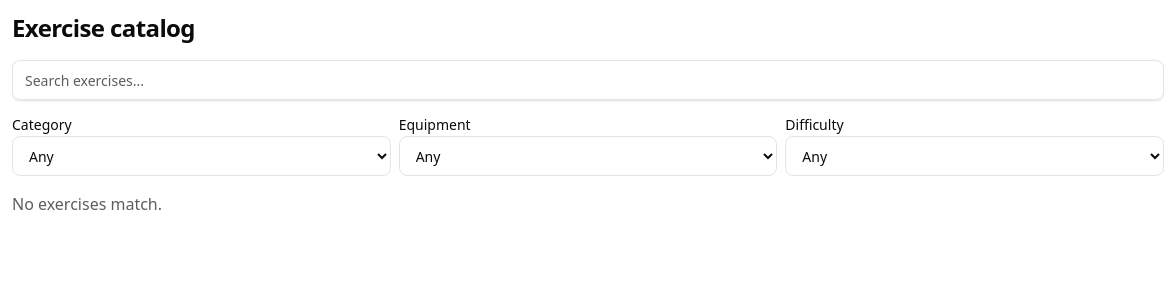
ExercisesClient › passes selected category filter into the backend query
Step 1. Select "Push" in the dropdown labelled "Category" → (201, 156), box [12,136,391,176]
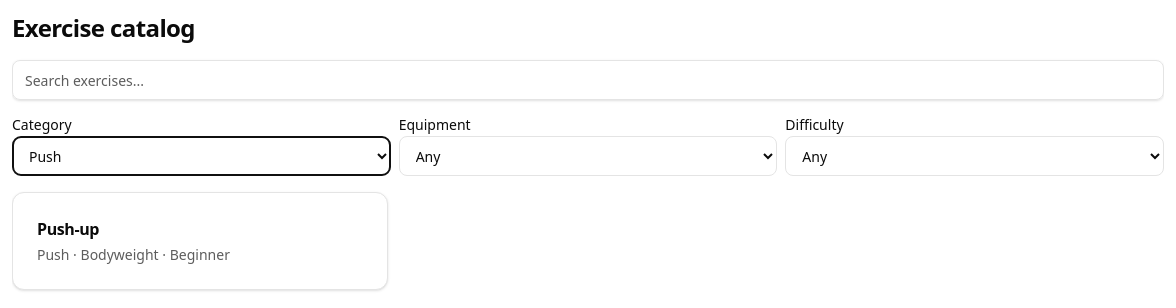
Check: the heading "Push-up" is shown, box [37,218,99,240]
